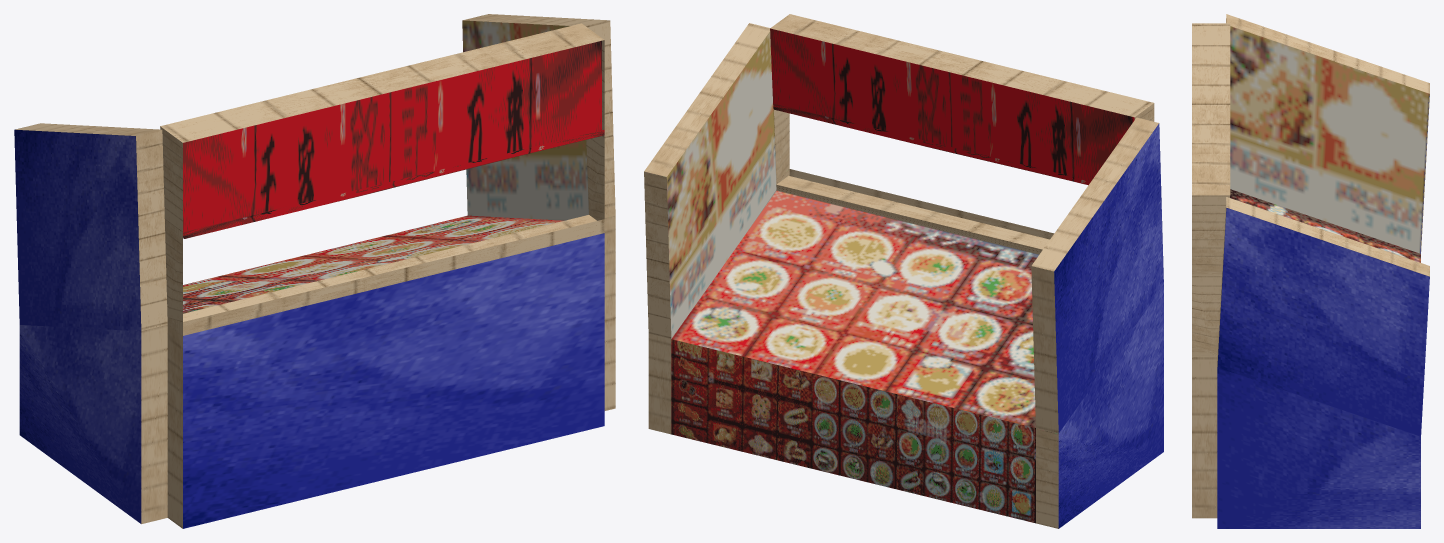
Rendered from ChineseStreetFoodStall.fbx.
The picture shows the model from 3 angles, left to right: view 1: azimuth 30°, elevation 25°; view 2: azimuth 150°, elevation 25°; view 3: azimuth 270°, elevation 25°; orthographic projection. The views are drawn at different scales.
Parts seen in each view (by area): view 1: mesh; view 2: mesh; view 3: mesh.
Part boxes in pixels (bbox=[...]): mesh: bbox=[14, 14, 615, 528]; mesh: bbox=[644, 14, 1163, 528]; mesh: bbox=[1192, 14, 1429, 528].
Size of the model in its own units: 56.25 by 43.75 by 29.22.
Materials: 1 (1 with a texture image).
